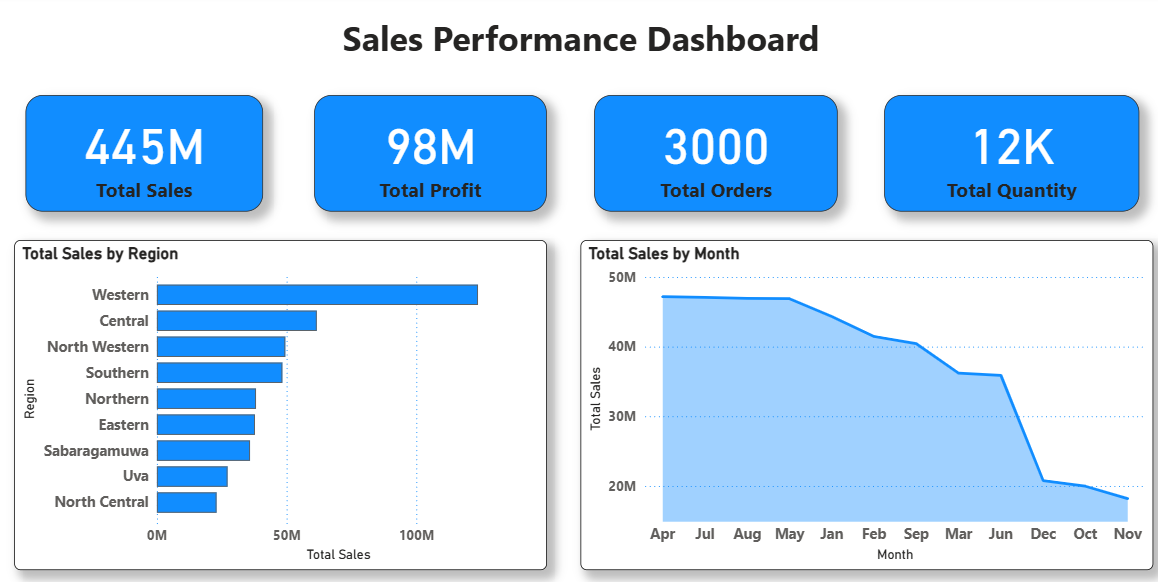

Layout of this report page (visuals, bound fields, positions):
{"tool":"powerbi","page":{"name":"Sales Dashboard","canvas":[1280,720],"ordinal":0},"visuals":[{"type":"card","fields":{"Values":["SalesData.Total Profit"]},"box":[347.2,109.8,255.2,127.6],"z":0},{"type":"card","fields":{"Values":["SalesData.Measure"]},"box":[30.2,109.8,260.7,127.6],"z":1000},{"type":"card","fields":{"Values":["SalesData.Total Orders"]},"box":[654.5,109.8,267.6,127.6],"z":2000},{"type":"card","fields":{"Values":["SalesData.Total Quantity"]},"box":[972.9,109.8,279.9,127.6],"z":3000},{"type":"lineChart","fields":{"Y":["SalesData.Total Sales"],"Category":["Calendar1.Month"]},"box":[639.5,269,628.5,362.3],"z":4000},{"type":"clusteredBarChart","fields":{"Category":["SalesData.Region"],"Y":["SalesData.Total Sales"]},"box":[17.8,269,584.6,362.3],"z":5000},{"type":"textbox","box":[0,16.5,1280.3,72.7],"z":6000}]}

Visuals, with their boxes in screenshot pixels (x1, y1, x2, y2):
card - SalesData.Total Profit: box(343, 106, 547, 207)
card - SalesData.Measure: box(90, 106, 298, 207)
card - SalesData.Total Orders: box(588, 106, 801, 207)
card - SalesData.Total Quantity: box(842, 106, 1065, 207)
lineChart - SalesData.Total Sales x Calendar1.Month: box(576, 233, 1077, 521)
clusteredBarChart - SalesData.Region x SalesData.Total Sales: box(81, 233, 547, 521)
textbox: box(66, 31, 1087, 89)
